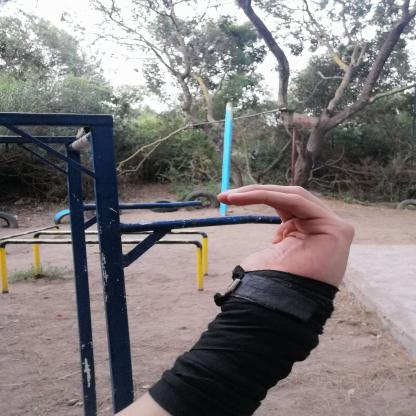HAA: (196, 174, 375, 330)
